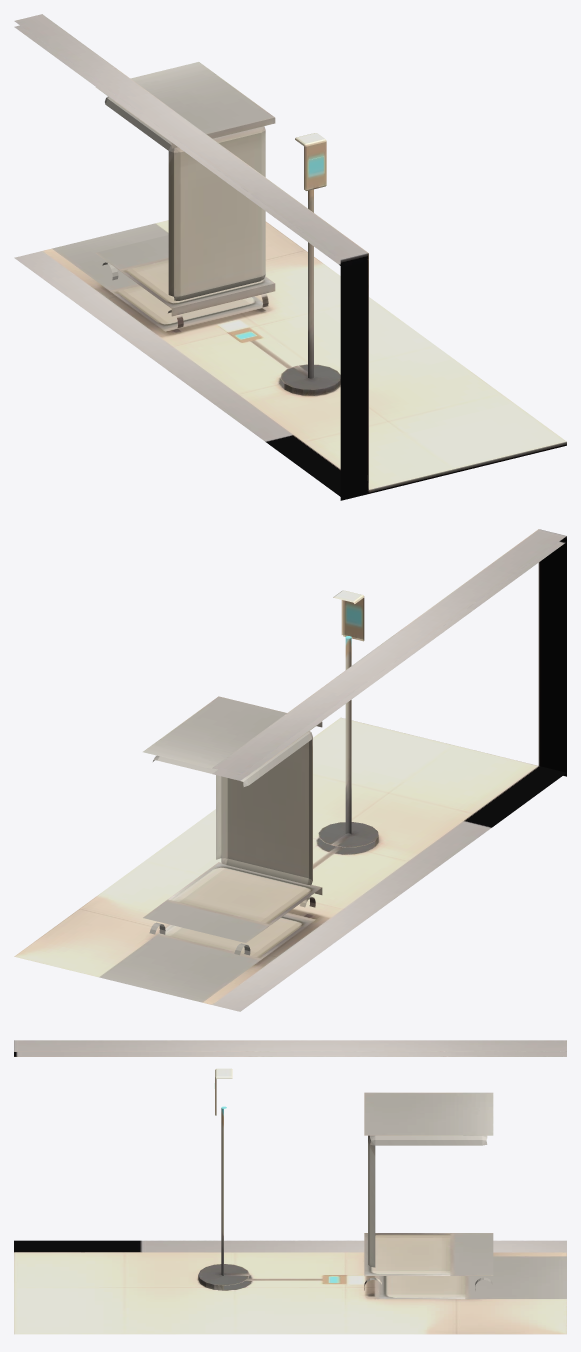
File: side-left.glb
3 views of the same model, one above another, from view 1: azimuth 30°, elevation 25°; view 2: azimuth 150°, elevation 25°; view 3: azimuth 270°, elevation 25° (orthographic). The views are drawn at different scales.
Visible parts, largest first — view 1: sideLeft; view 2: sideLeft; view 3: sideLeft.
Part boxes in pixels (x1,y1,x2,y2): sideLeft: (14, 14, 566, 500); sideLeft: (14, 529, 566, 1011); sideLeft: (14, 1040, 566, 1334).
Size of the model in its own units: 1.2 by 1.26 by 3.
Materials: 1 (1 with a texture image).
